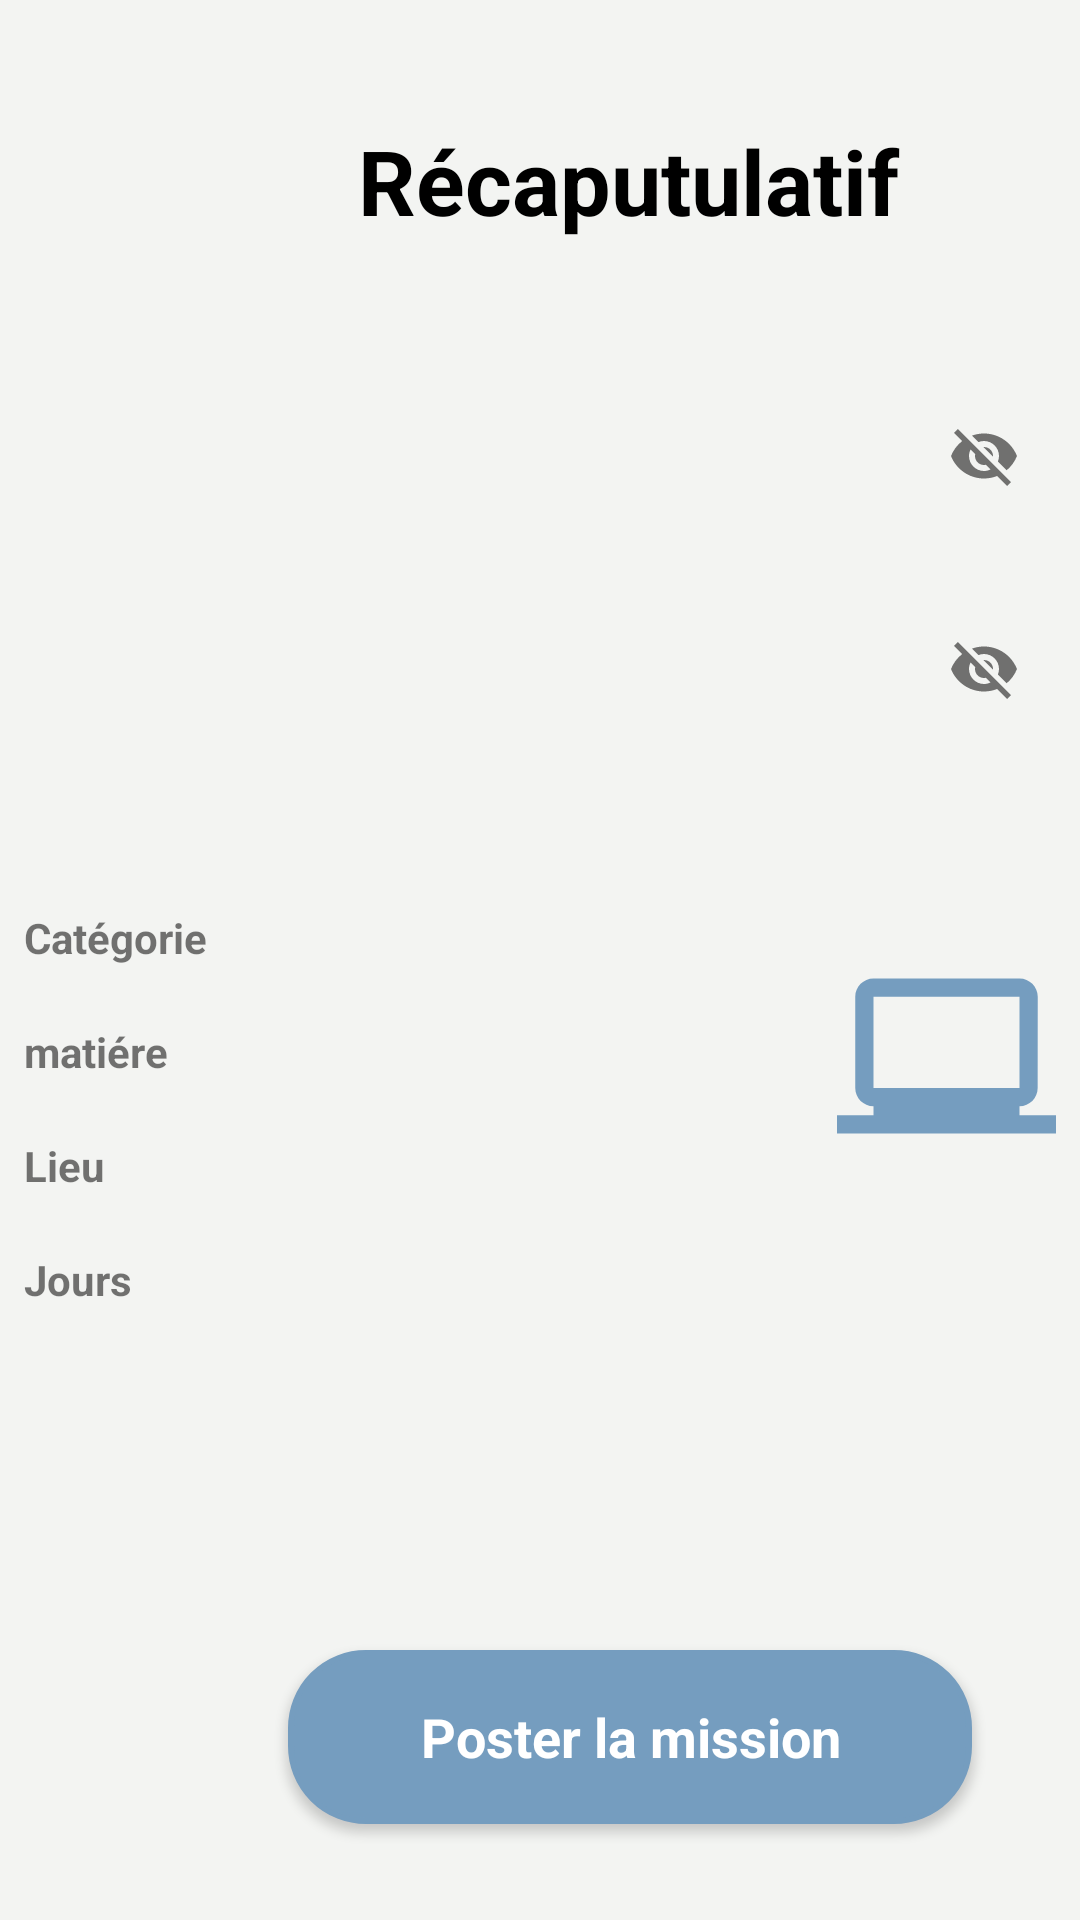

Locate icon controls on the screen. Image size 1080×1920, boxes as (x1, y1, x2, y2).
laptop windows: (837, 978, 1056, 1134)
